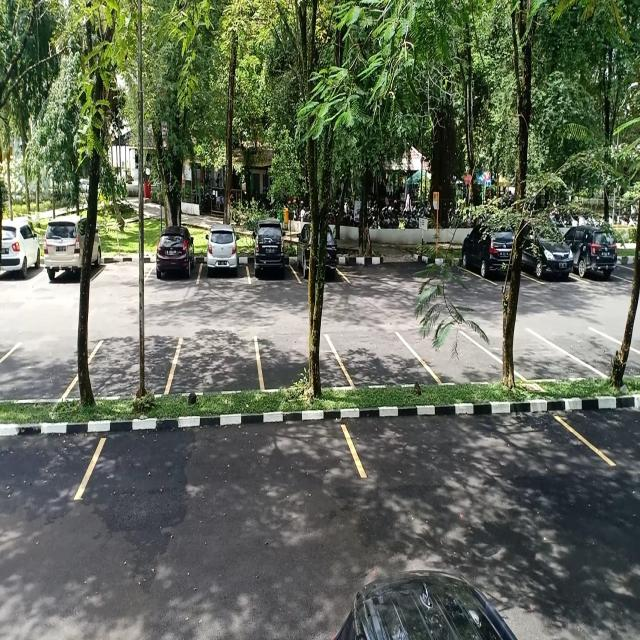empty: (74, 415, 360, 504), (344, 404, 598, 488), (0, 338, 96, 402), (88, 334, 178, 399), (170, 335, 260, 395), (337, 332, 422, 394), (256, 333, 340, 391), (422, 328, 503, 384), (511, 328, 582, 386), (97, 242, 153, 284)
occupied: (42, 215, 101, 284), (462, 221, 513, 286), (197, 226, 251, 284), (148, 229, 202, 286), (248, 222, 296, 285)
